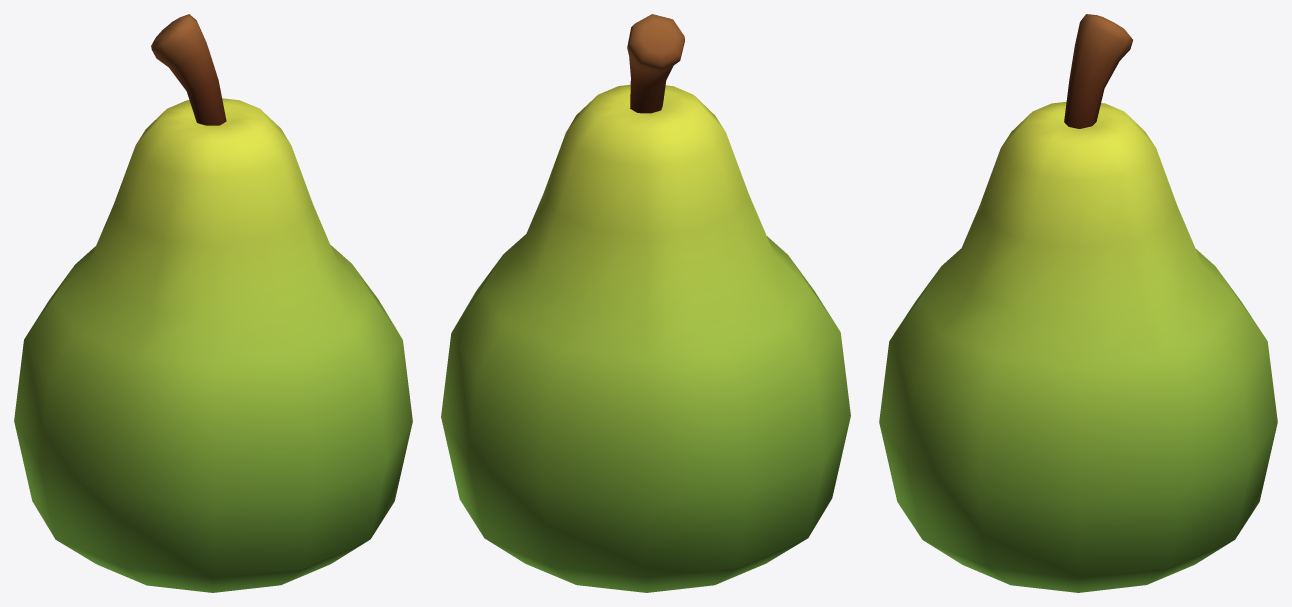
Rendered from Pear_02.glb.
3 renders of one model, left to right at view 1: azimuth 30°, elevation 25°; view 2: azimuth 150°, elevation 25°; view 3: azimuth 270°, elevation 25°, orthographic. The views are drawn at different scales.
Visible parts, largest first — view 1: Pear_02; view 2: Pear_02; view 3: Pear_02.
Boxes of the visible parts, x1,y1,x2,y2 form: Pear_02: (14, 14, 412, 592); Pear_02: (441, 14, 850, 592); Pear_02: (879, 14, 1277, 592).
Size of the model in its own units: 0.2504 by 0.3577 by 0.2504.
Materials: 1 (1 with a texture image).
